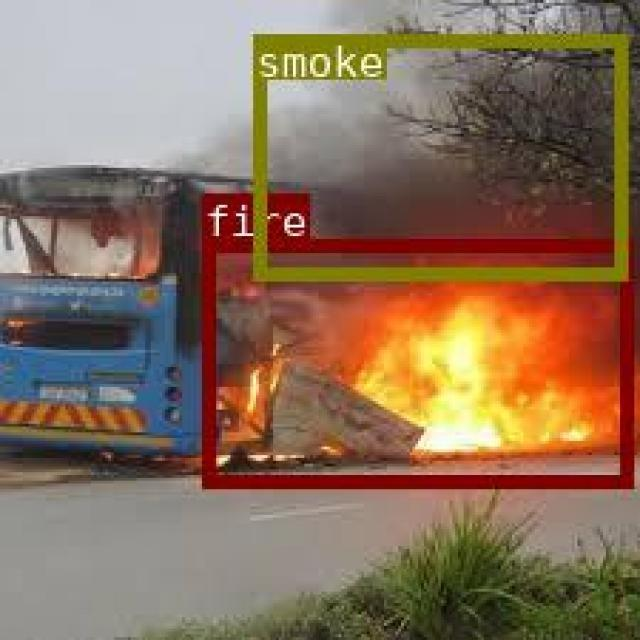fire: (202, 237, 630, 485)
smoke: (253, 32, 623, 279)
